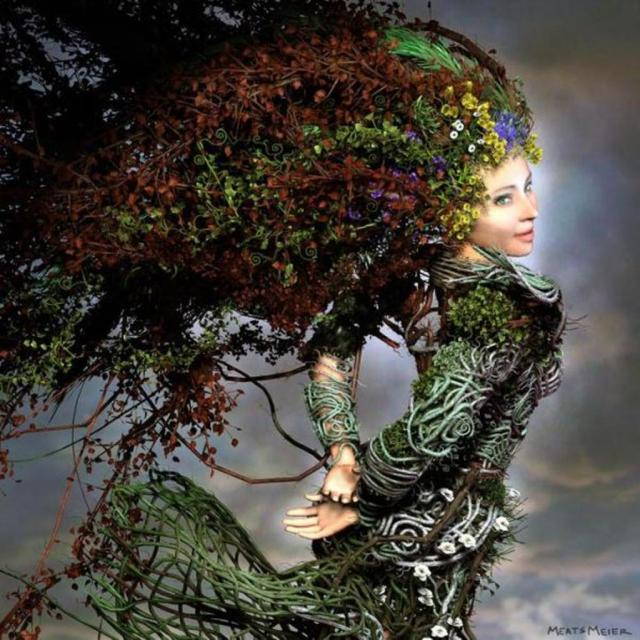nomask: (478, 152, 540, 256)
